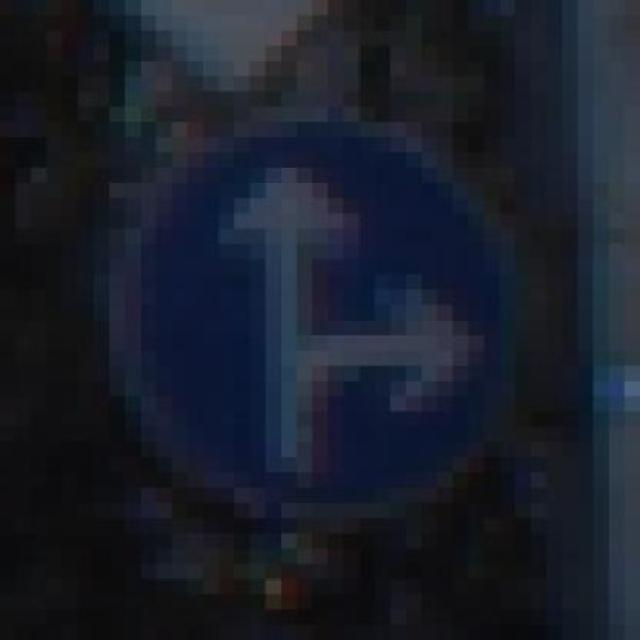Go Straight or Turn Right: (109, 76, 546, 579)
